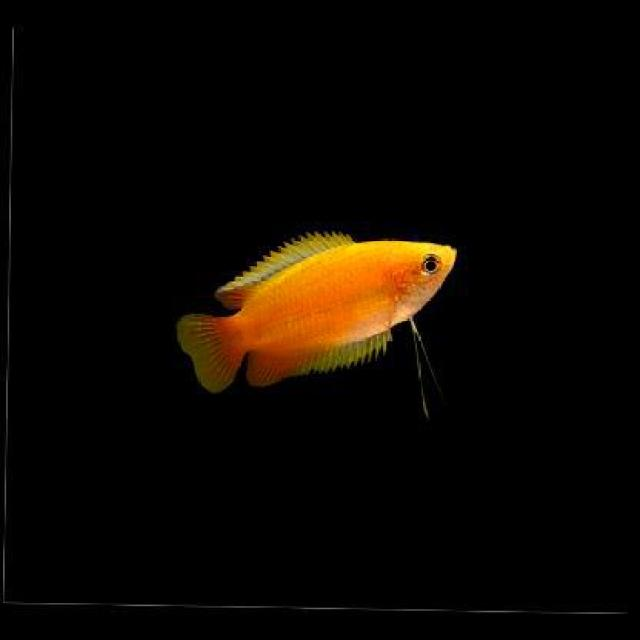Gourami: (173, 227, 464, 404)
